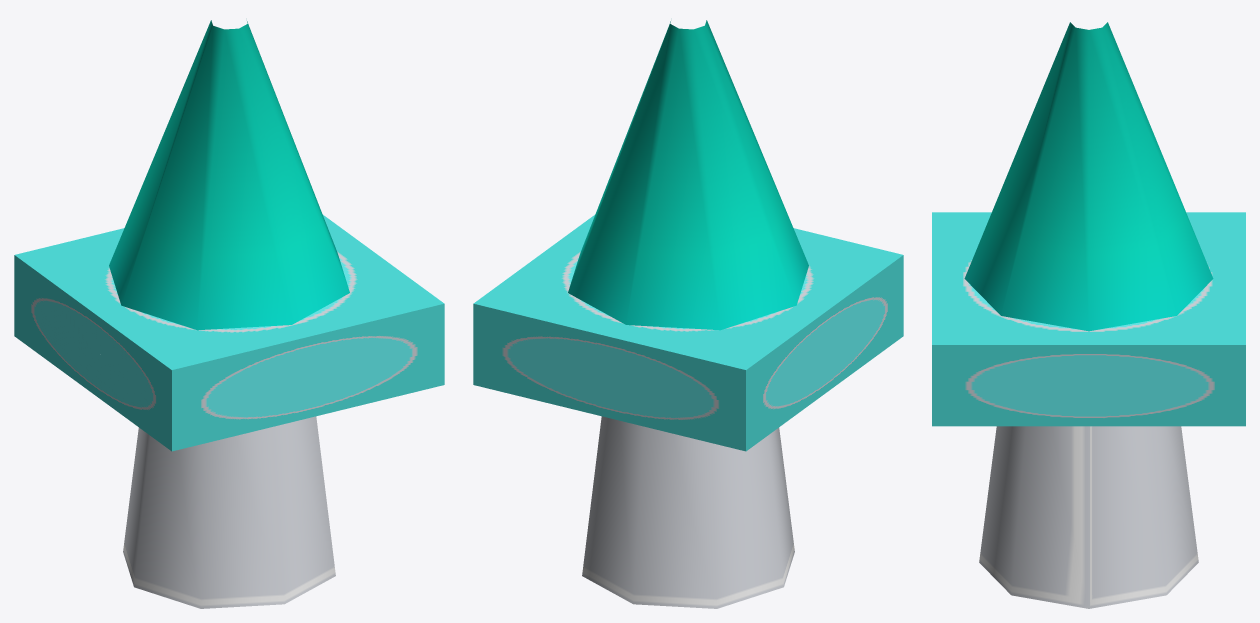
The model's file is consumable_starlight_tonic.glb.
3 renders of one model, left to right at view 1: azimuth 30°, elevation 25°; view 2: azimuth 150°, elevation 25°; view 3: azimuth 270°, elevation 25°, orthographic.
Parts seen in each view (by area): view 1: consumable_starlight_tonic; view 2: consumable_starlight_tonic; view 3: consumable_starlight_tonic.
Boxes of the visible parts, <box> form: consumable_starlight_tonic: <box>14,20,444,608</box>; consumable_starlight_tonic: <box>473,20,903,608</box>; consumable_starlight_tonic: <box>932,22,1245,608</box>.
Bounding box in the file's own units: 0.2 × 0.38 × 0.2.
Materials: 1 (1 with a texture image).
